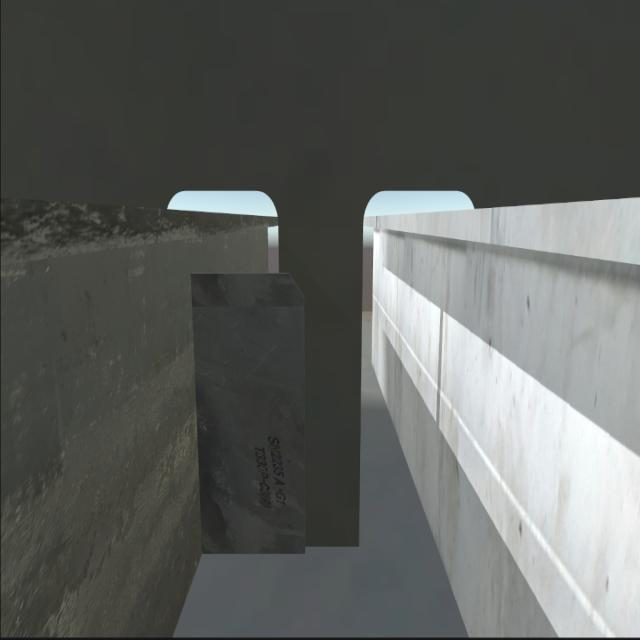fillet_yong_jeop_jang: (200, 538, 370, 562)
longi_yong_jeop_jang: (184, 269, 207, 555)
plate_CP03: (202, 268, 310, 556)
